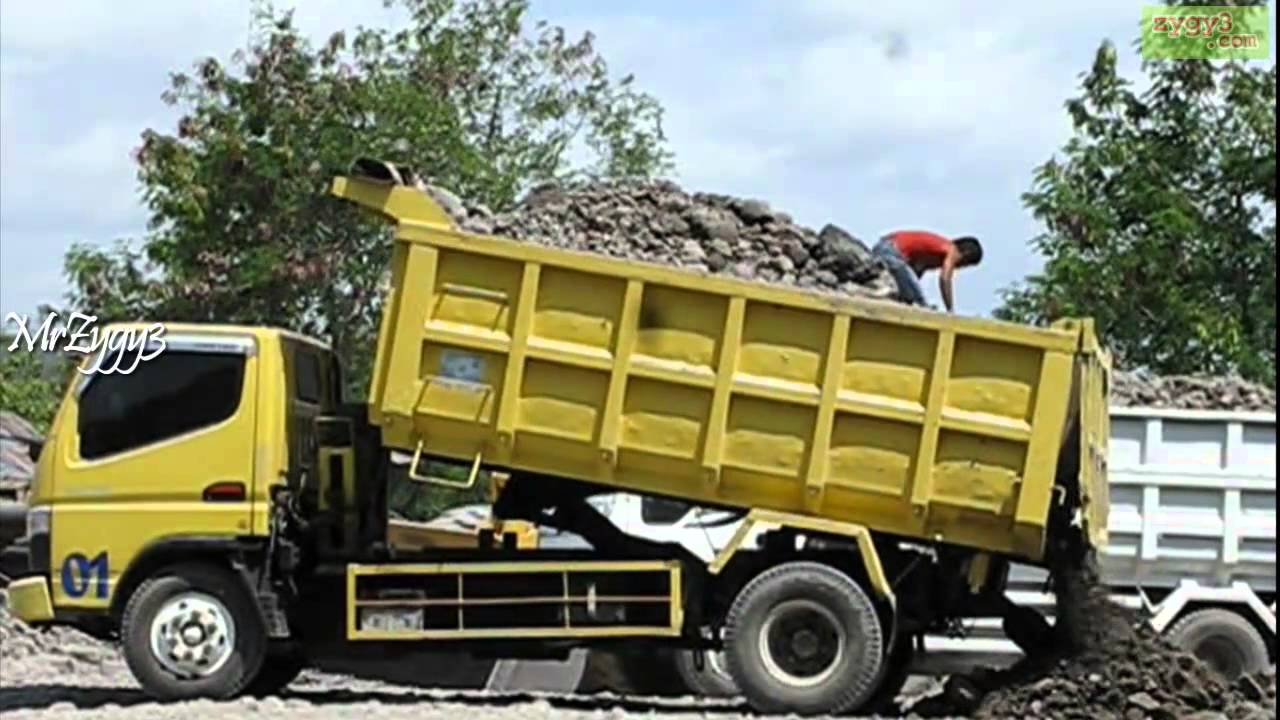truck: (11, 165, 1130, 720)
